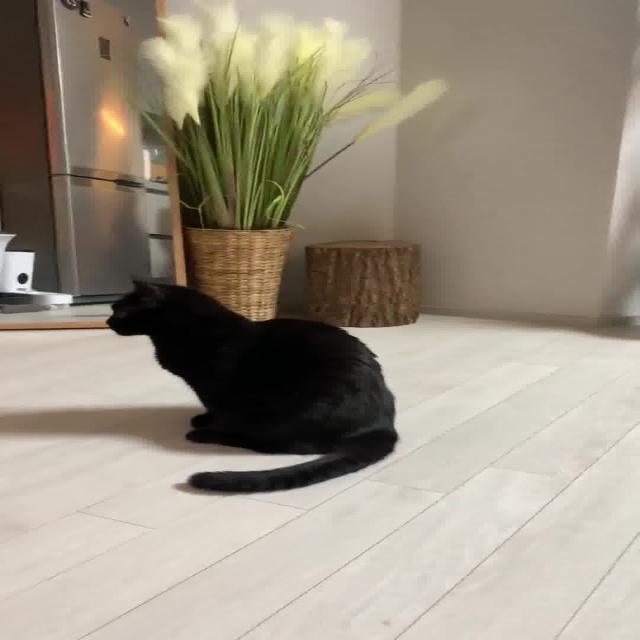cat: (92, 269, 422, 497)
